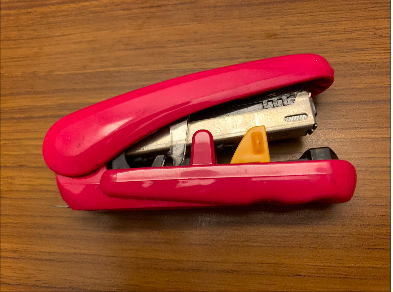Nonfood: (54, 58, 349, 211)
